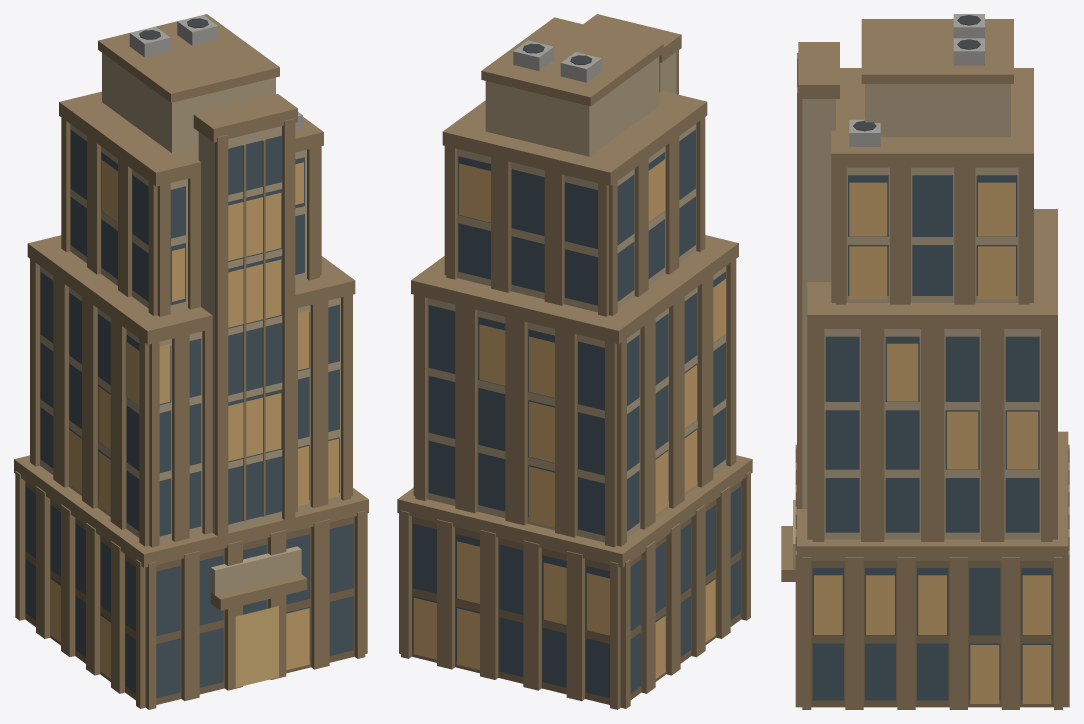
Rendered from tour_beige.glb.
3 views of the same model, side by side, from view 1: azimuth 30°, elevation 25°; view 2: azimuth 150°, elevation 25°; view 3: azimuth 270°, elevation 25° (orthographic). The views are drawn at different scales.
Parts seen in each view (by area): view 1: tour_beige; view 2: tour_beige; view 3: tour_beige.
Part boxes in pixels (x1=…): tour_beige: x1=14, y1=14, x2=368, y2=709; tour_beige: x1=397, y1=14, x2=752, y2=709; tour_beige: x1=781, y1=14, x2=1069, y2=709.
Bounding box in the file's own units: 10.5 × 26.23 × 11.05.
